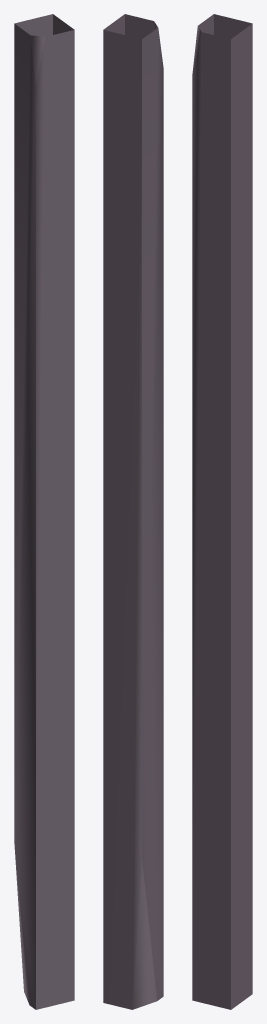
File: Wood_beam.fbx
3 renders of one model, left to right at view 1: azimuth 30°, elevation 25°; view 2: azimuth 150°, elevation 25°; view 3: azimuth 330°, elevation 25°, orthographic.
Visible parts, largest first — view 1: Wood_beam; view 2: Wood_beam; view 3: Wood_beam.
Part boxes in pixels (x1=…): Wood_beam: x1=14, y1=14, x2=74, y2=1009; Wood_beam: x1=103, y1=14, x2=163, y2=1009; Wood_beam: x1=192, y1=14, x2=252, y2=1009.
Size of the model in its own units: 0.00128 by 0.0307 by 0.00124.
Materials: 1 (1 with a texture image).
